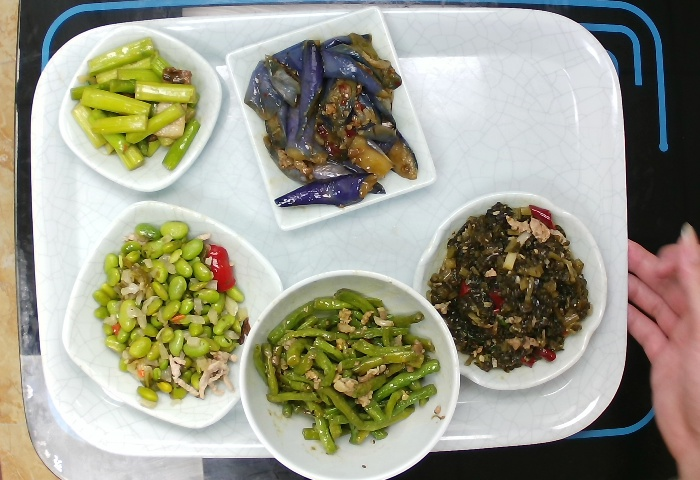JYsf-Ao_Yuan_Wan: (411, 189, 612, 395)
JYsf-Fan_Wan: (237, 264, 462, 480)
JYsf-Si_Fang_Die: (56, 19, 226, 194)
WCQzf-Da_Si_Fang_Die: (56, 200, 284, 434)
WCQzf-Ru_Ci_Si_Fang_Die: (220, 5, 444, 232)
